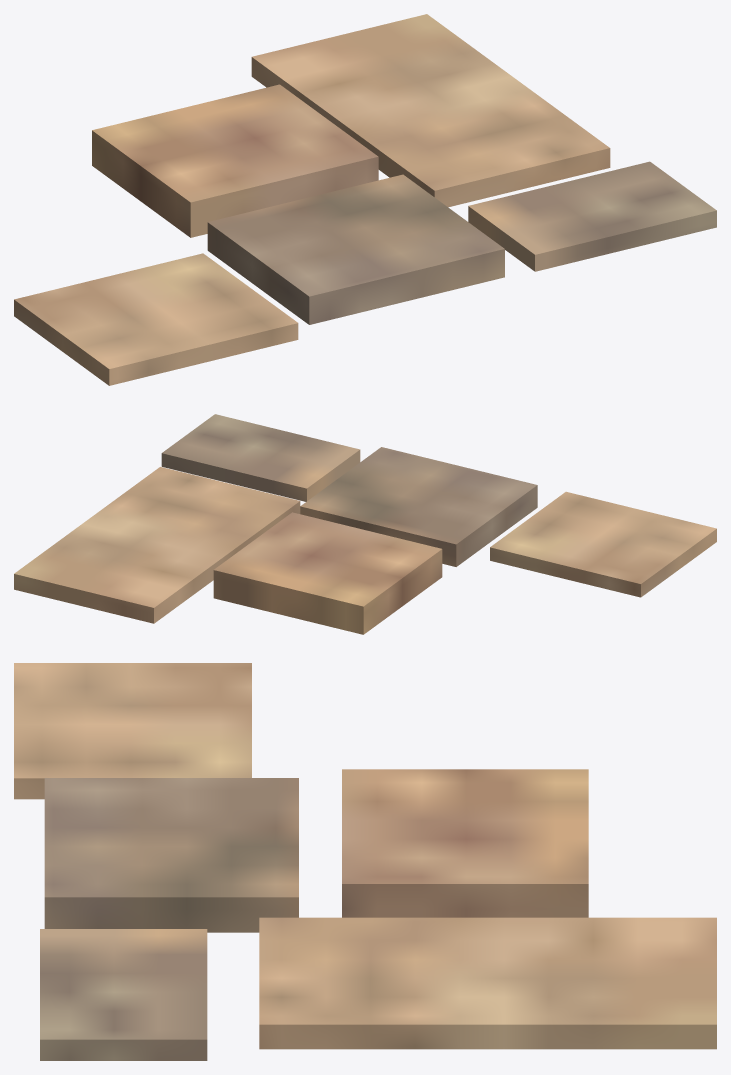
File: Brick01.fbx
3 renders of one model, top to bottom at view 1: azimuth 30°, elevation 25°; view 2: azimuth 150°, elevation 25°; view 3: azimuth 270°, elevation 25°, orthographic. The views are drawn at different scales.
Visible parts, largest first — view 1: Brick01; view 2: Brick01; view 3: Brick01.
Boxes of the visible parts, bbox=[...] form: Brick01: bbox=[14, 14, 716, 385]; Brick01: bbox=[14, 414, 716, 634]; Brick01: bbox=[14, 663, 716, 1060].
Bounding box in the file's own units: 75.02 × 4.11 × 59.14.
